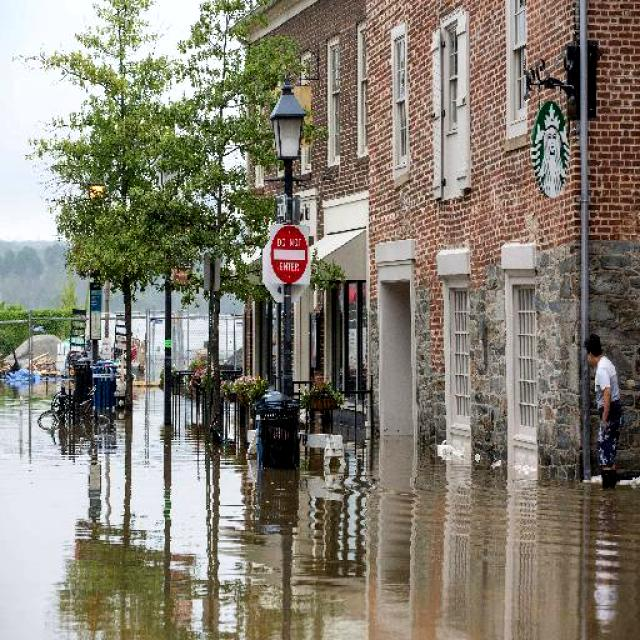civilian: (578, 322, 627, 499)
